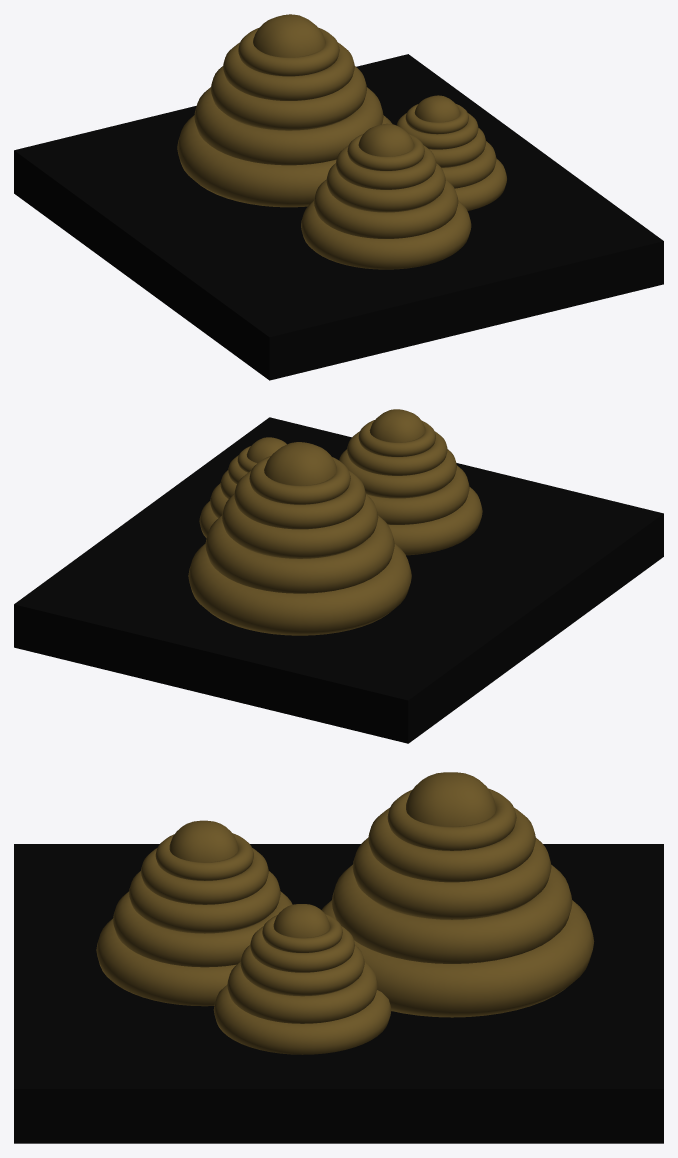
The model's file is Kotoran Sapi.fbx.
3 renders of one model, top to bottom at view 1: azimuth 30°, elevation 25°; view 2: azimuth 150°, elevation 25°; view 3: azimuth 270°, elevation 25°, orthographic. The views are drawn at different scales.
Visible parts, largest first — view 1: Cow Poop; view 2: Cow Poop; view 3: Cow Poop.
Boxes of the visible parts, x1,y1,x2,y2 form: Cow Poop: [14, 14, 663, 380]; Cow Poop: [14, 409, 663, 743]; Cow Poop: [14, 772, 663, 1143].
Bounding box in the file's own units: 104 × 47.72 × 117.
